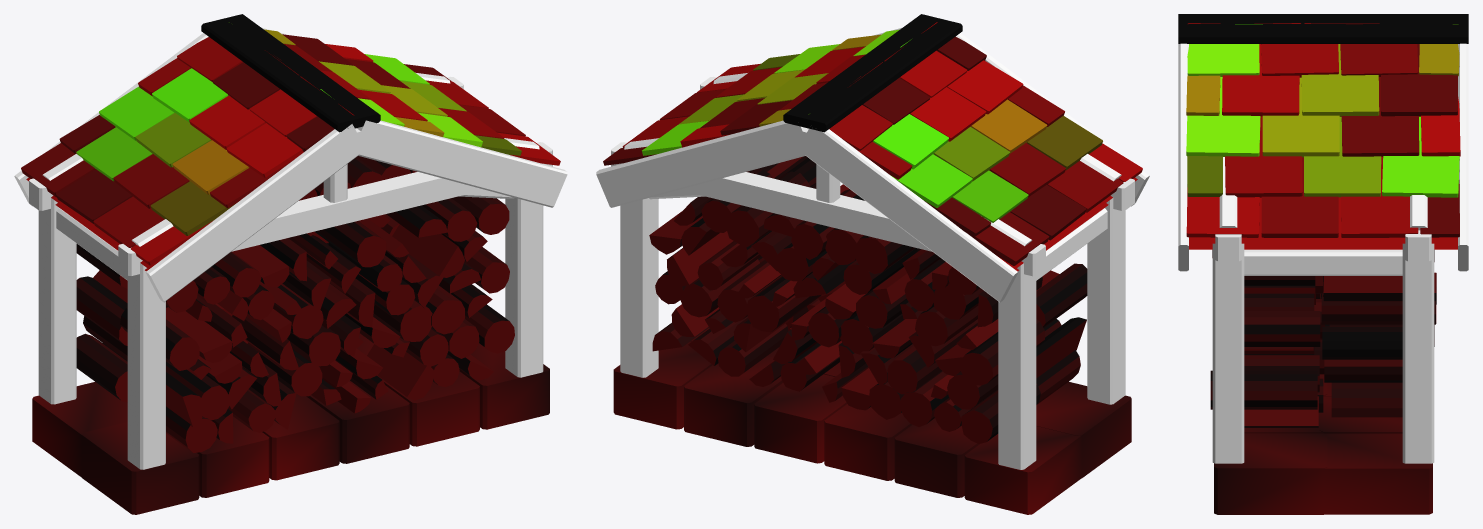
The model's file is SilverbrookPropFirewoodStack.fbx.
3 renders of one model, left to right at view 1: azimuth 30°, elevation 25°; view 2: azimuth 150°, elevation 25°; view 3: azimuth 270°, elevation 25°, orthographic. The views are drawn at different scales.
Visible parts, largest first — view 1: SM_SBPropFirewoodStack_Logs, SM_SBPropFirewoodStack_Cover, SM_SBPropFirewoodStack_Timber, SM_SBPropFirewoodStack_Footing; view 2: SM_SBPropFirewoodStack_Logs, SM_SBPropFirewoodStack_Cover, SM_SBPropFirewoodStack_Timber, SM_SBPropFirewoodStack_Footing; view 3: SM_SBPropFirewoodStack_Cover, SM_SBPropFirewoodStack_Timber, SM_SBPropFirewoodStack_Logs, SM_SBPropFirewoodStack_Footing.
Boxes of the visible parts, box(x1,y1,x2,y2) form: SM_SBPropFirewoodStack_Logs: box(76, 156, 514, 452); SM_SBPropFirewoodStack_Cover: box(21, 14, 560, 271); SM_SBPropFirewoodStack_Timber: box(14, 28, 567, 469); SM_SBPropFirewoodStack_Footing: box(32, 333, 549, 514); SM_SBPropFirewoodStack_Logs: box(649, 156, 1087, 443); SM_SBPropFirewoodStack_Cover: box(603, 14, 1142, 271); SM_SBPropFirewoodStack_Timber: box(596, 27, 1149, 469); SM_SBPropFirewoodStack_Footing: box(613, 328, 1131, 514); SM_SBPropFirewoodStack_Cover: box(1178, 14, 1468, 249); SM_SBPropFirewoodStack_Timber: box(1178, 43, 1468, 463); SM_SBPropFirewoodStack_Logs: box(1210, 250, 1436, 427); SM_SBPropFirewoodStack_Footing: box(1214, 374, 1432, 514).
Bounding box in the file's own units: 198 × 160 × 110.
